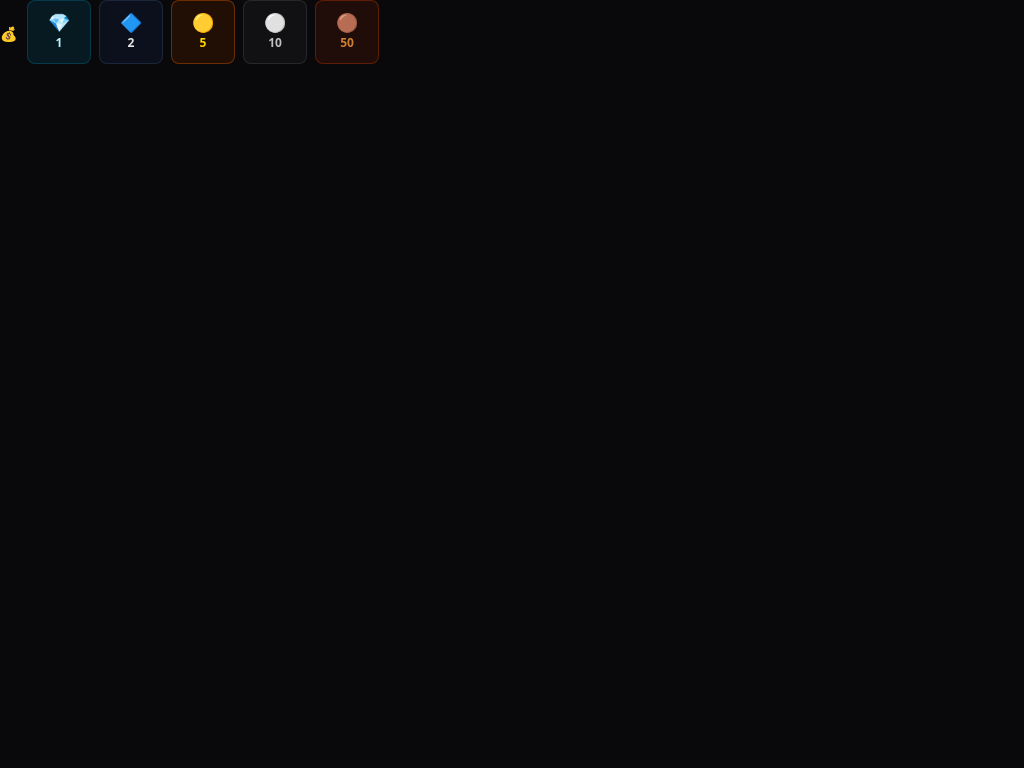
Test case: CurrencyPouch › blocks confirmation and reports insufficient balance
This screenshot has width=1024, height=768.
Click the button named "Ouro: 5" at (203, 32), box [171,0,235,64]
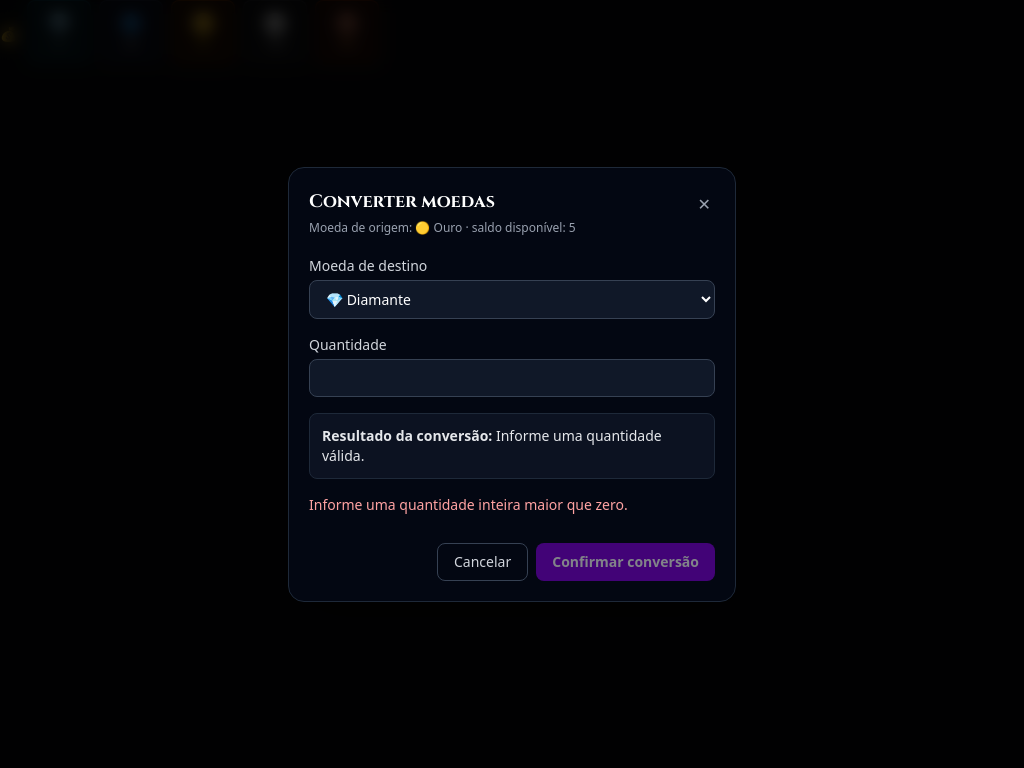
Type "6" into the number field labelled "Quantidade" at (512, 378), box [309,358,715,396]
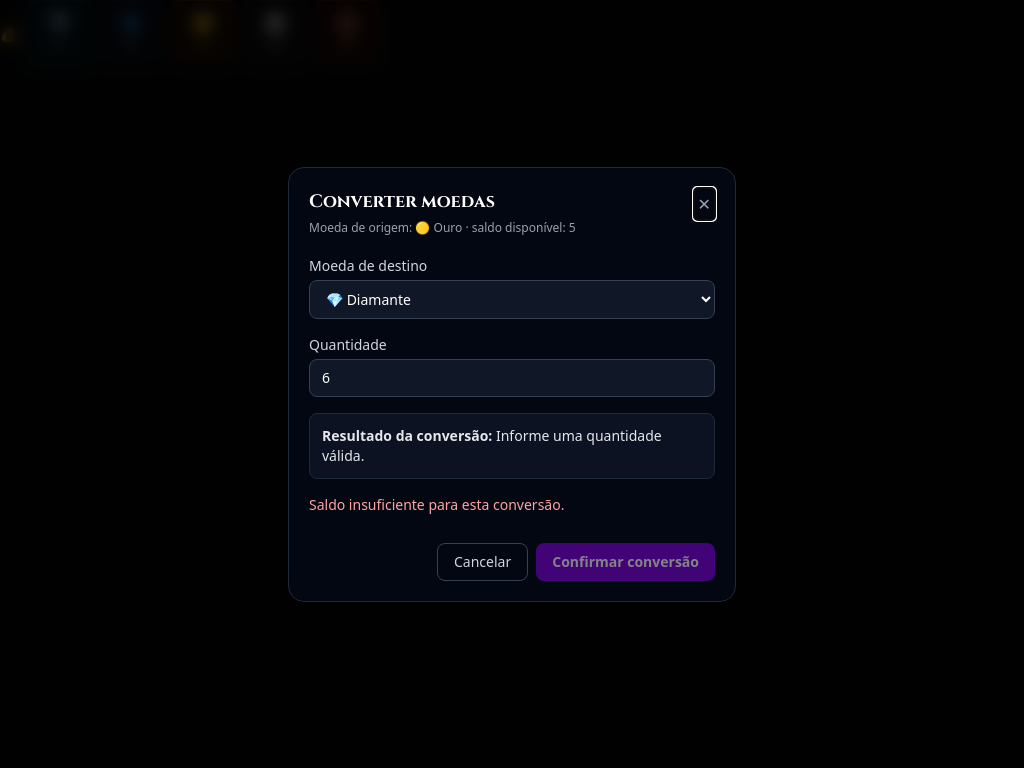
Expected: the button "Confirmar conversão" is disabled, [536,542,715,580]
Expected: the message shows "Saldo insuficiente", [309,494,564,514]
